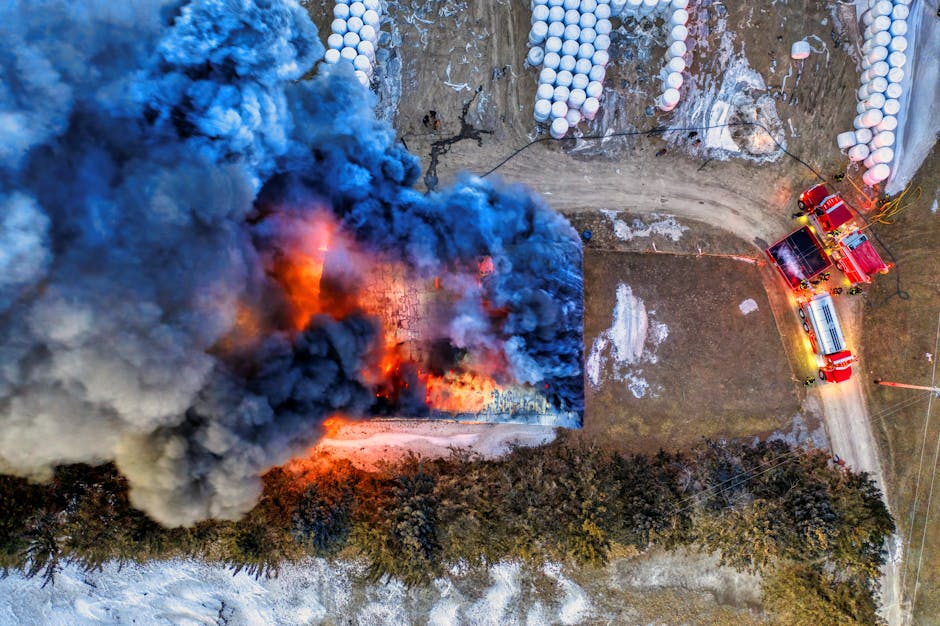fire_extinguisher: (796, 182, 893, 287), (797, 291, 860, 384)
